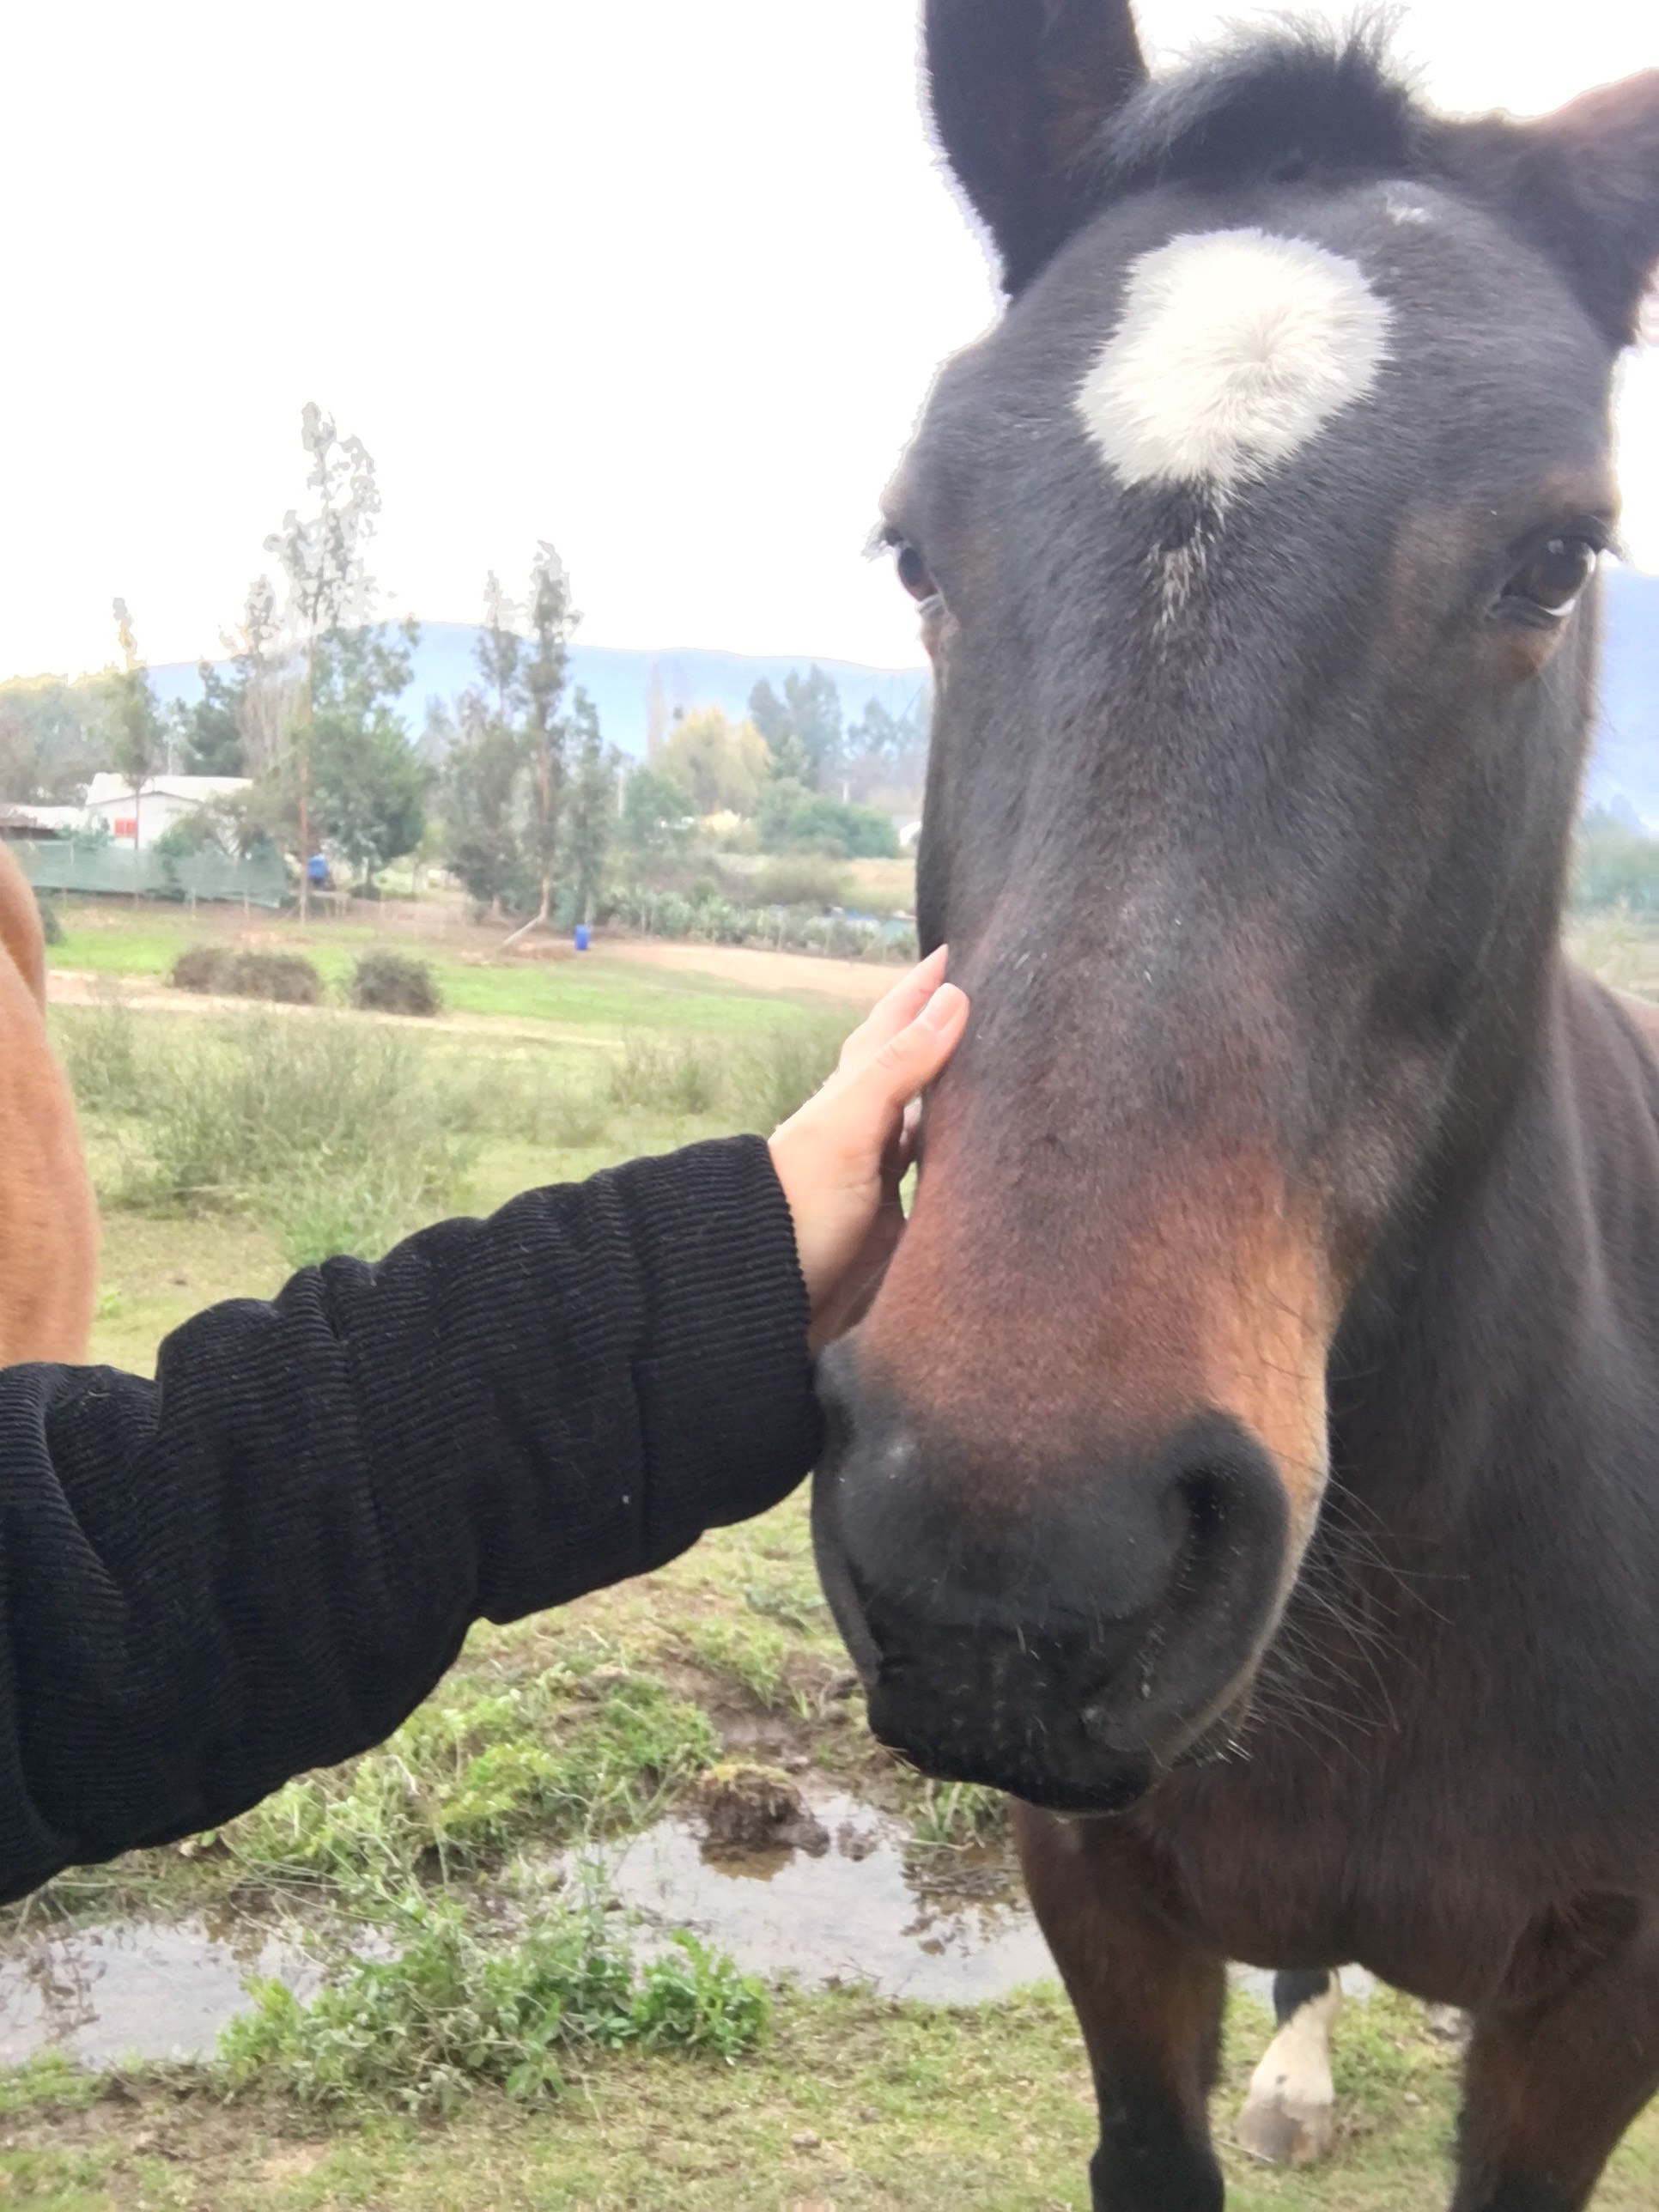violeta: (812, 0, 1656, 2212)
